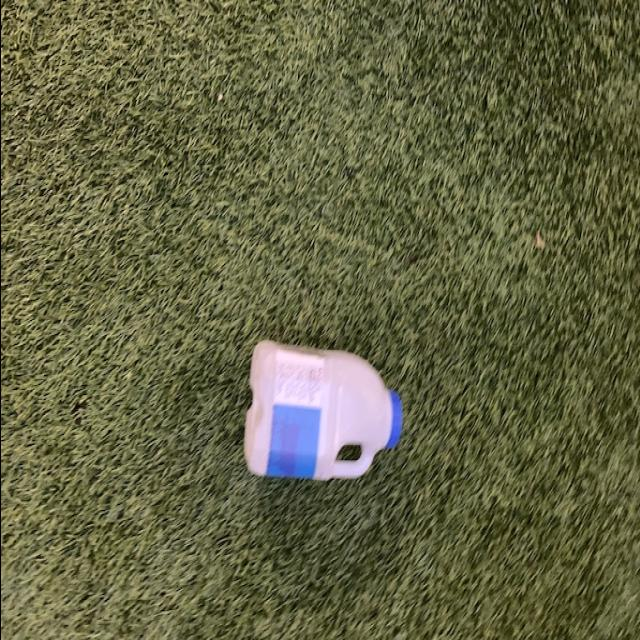HDPEM: (237, 342, 404, 486)
